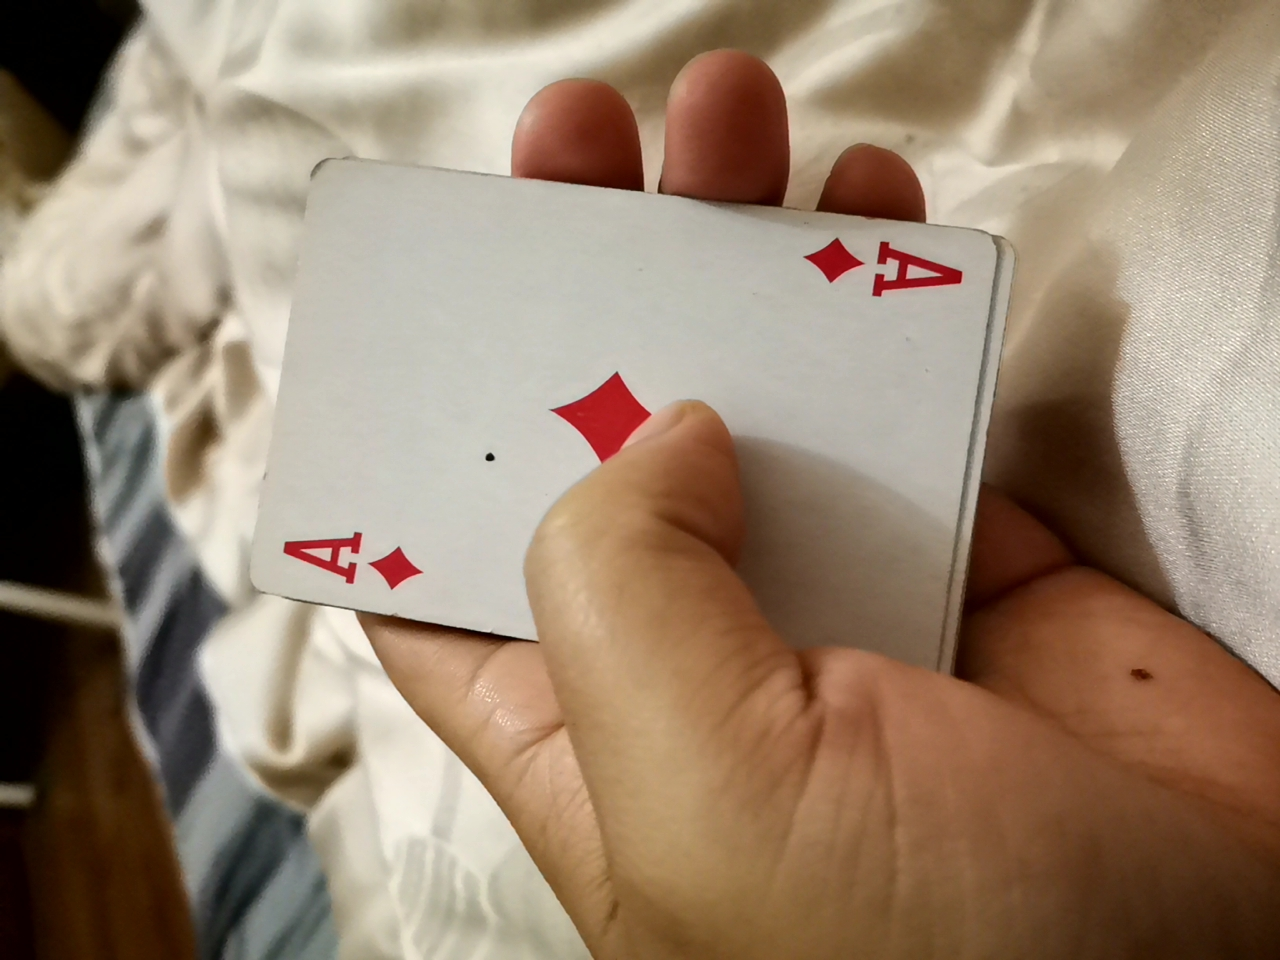fk a: (241, 123, 1085, 678)
